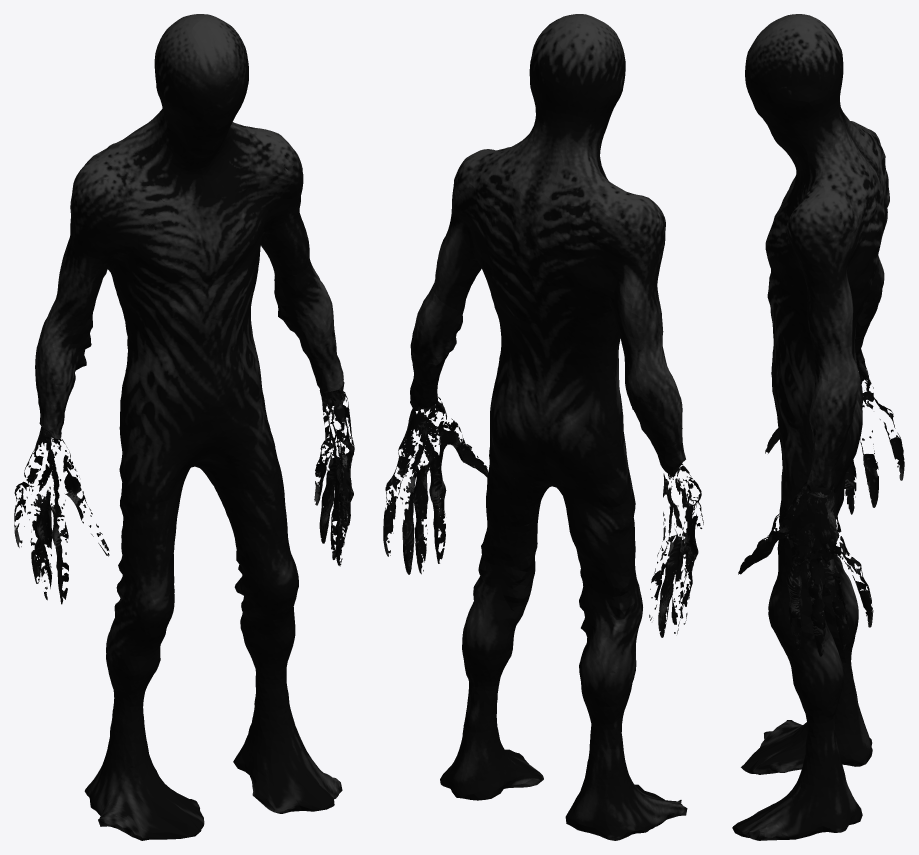
Rendered from shadowman6.fbx.
3 views of the same model, side by side, from view 1: azimuth 30°, elevation 25°; view 2: azimuth 150°, elevation 25°; view 3: azimuth 270°, elevation 25° (orthographic). The views are drawn at different scales.
Parts seen in each view (by area): view 1: mesh; view 2: mesh; view 3: mesh.
Boxes of the visible parts, box(x1,y1,x2,y2) form: mesh: box(14, 14, 354, 840); mesh: box(383, 14, 703, 840); mesh: box(732, 14, 904, 840).
Size of the model in its own units: 81.13 by 203 by 40.94.
Materials: 1 (1 with a texture image).
